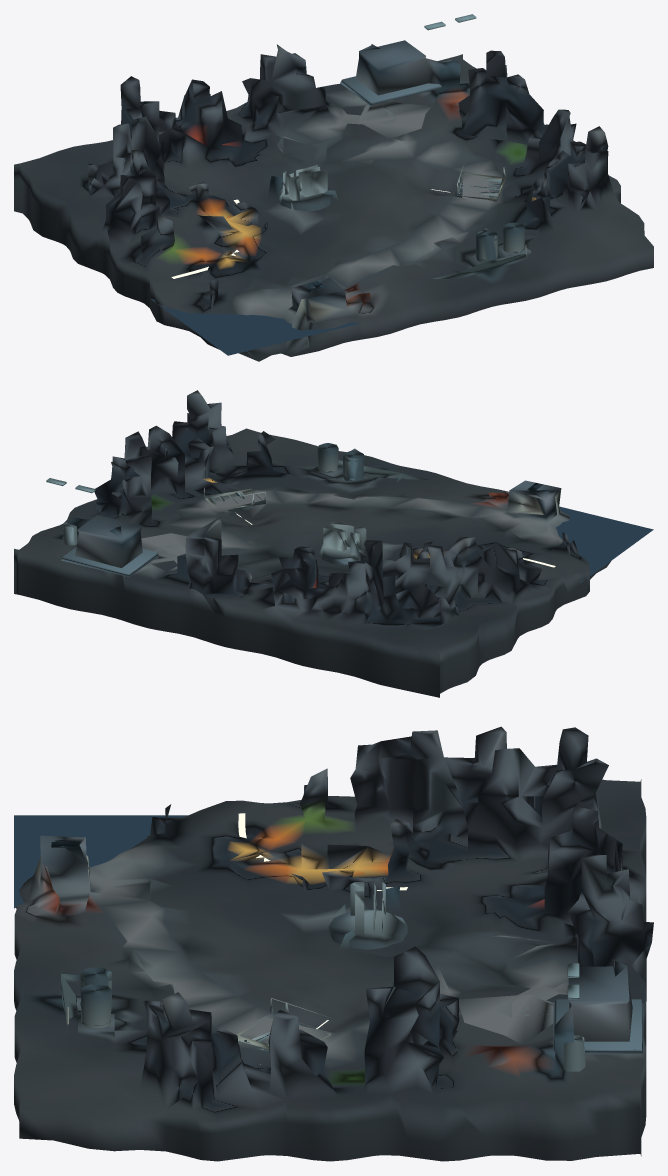
The model's file is vulkara.far.glb.
The picture shows the model from 3 angles, top to bottom: view 1: azimuth 30°, elevation 25°; view 2: azimuth 150°, elevation 25°; view 3: azimuth 270°, elevation 25°; orthographic projection. The views are drawn at different scales.
Visible parts, largest first — view 1: Static terrain and architecture • material batches; view 2: Static terrain and architecture • material batches; view 3: Static terrain and architecture • material batches.
Part boxes in pixels (left/top/right/bottom): Static terrain and architecture • material batches: left=14, top=40, right=653, bottom=361; Static terrain and architecture • material batches: left=14, top=390, right=653, bottom=697; Static terrain and architecture • material batches: left=14, top=726, right=653, bottom=1161.
Size of the model in its own units: 24 by 6.21 by 20.24.
